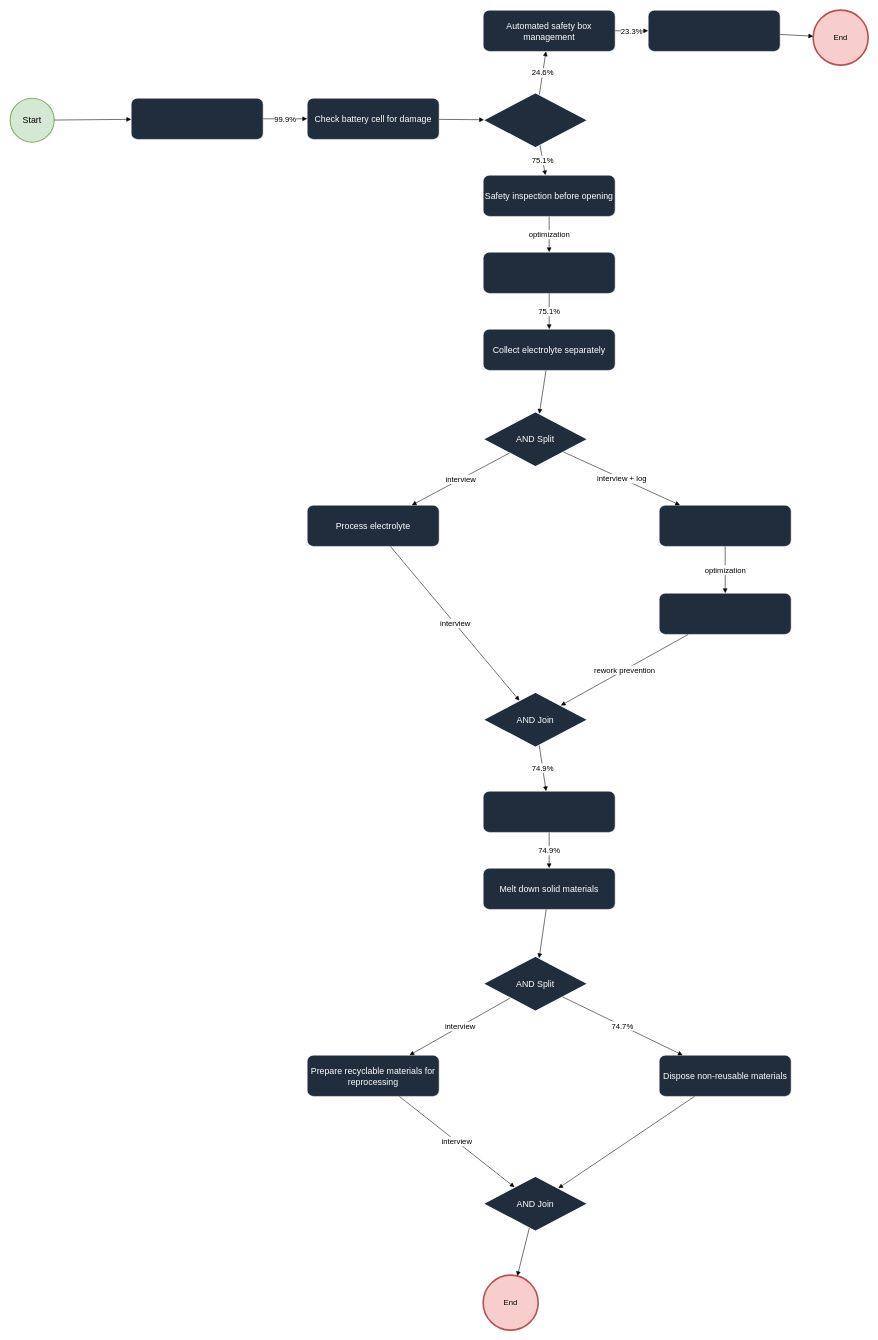
The diagram is 878 pixels wide and 1340 high, and some of its shapes have lost their labels. The centre of each missing label's shape, as x and y in pixels:
Battery cell completely discharged: (x=197, y=118)
Clean electrodes: (x=725, y=613)
Open battery cell: (x=549, y=272)
Place battery cell in safety box: (x=714, y=30)
Quality check for cleaning: (x=725, y=525)
Shred electrodes: (x=549, y=811)
XOR: Battery damaged?: (x=535, y=120)
